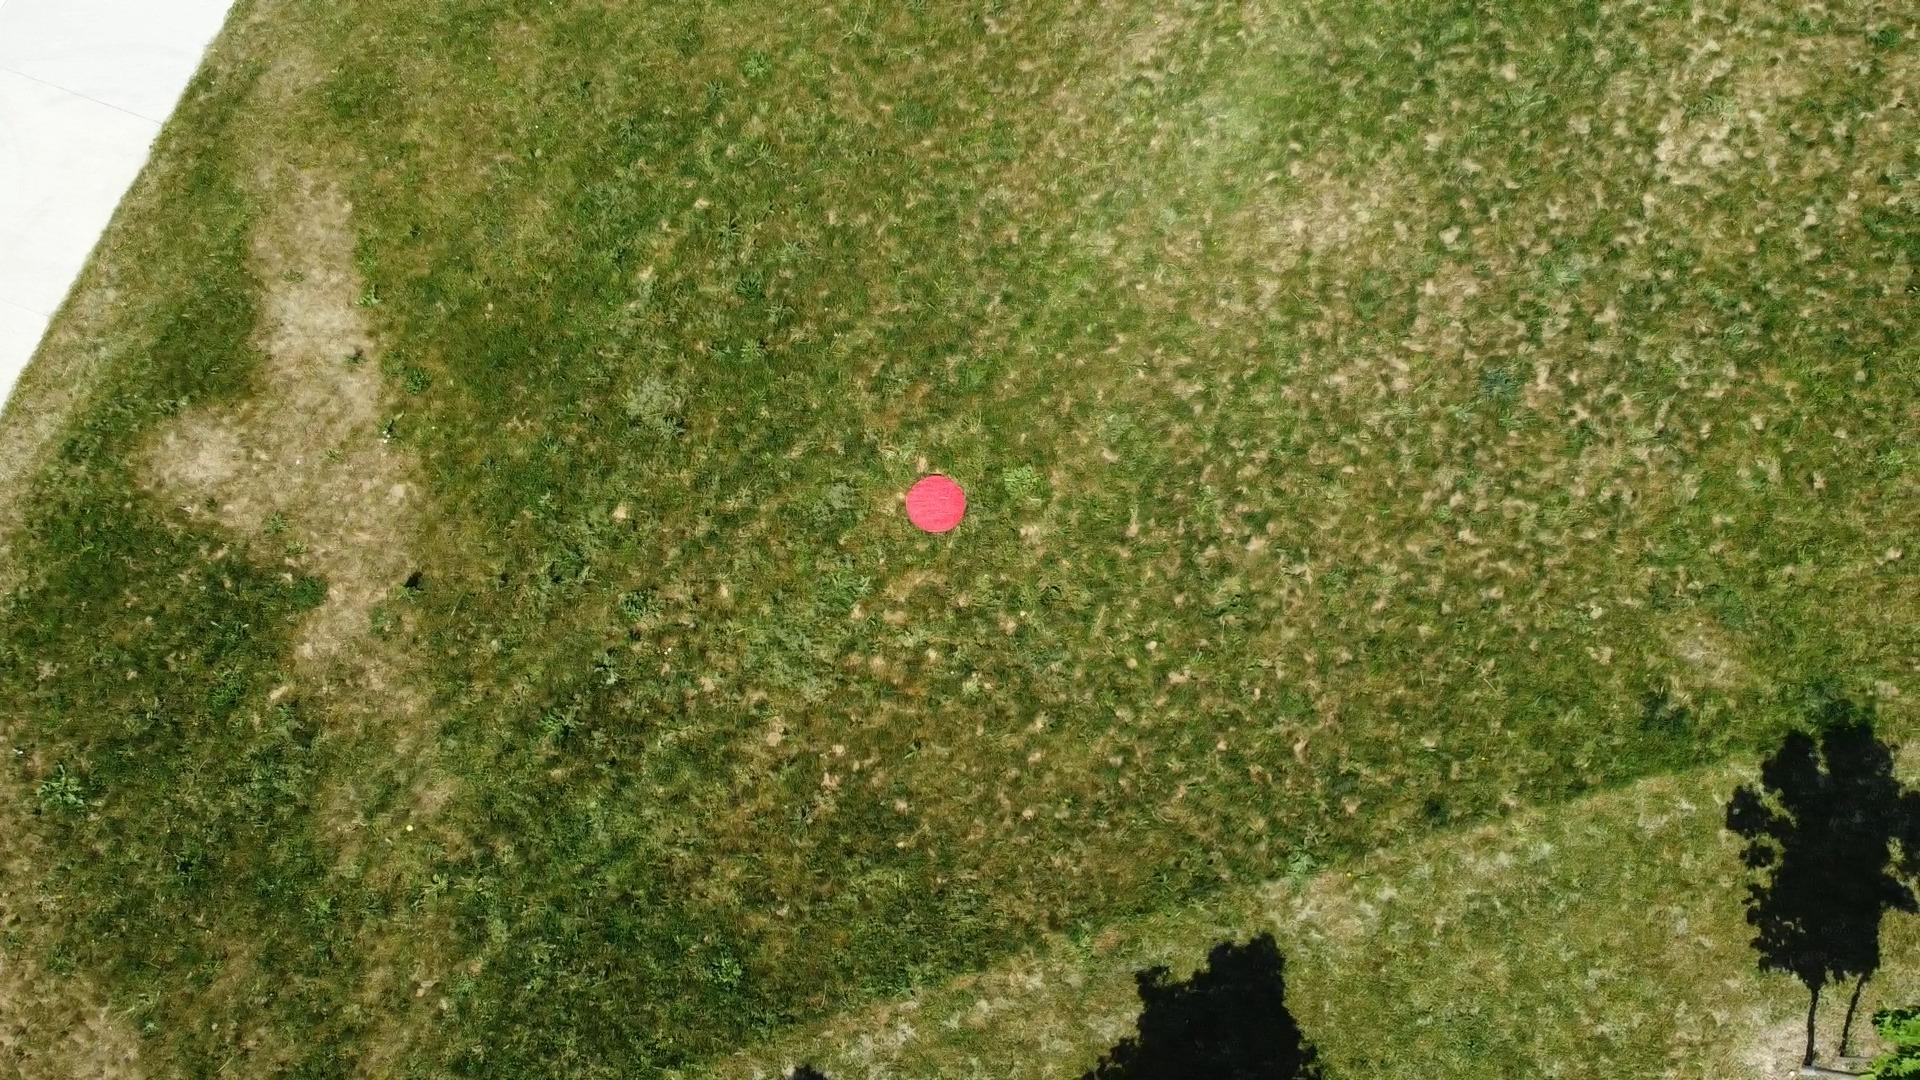Red: (903, 472, 969, 535)
